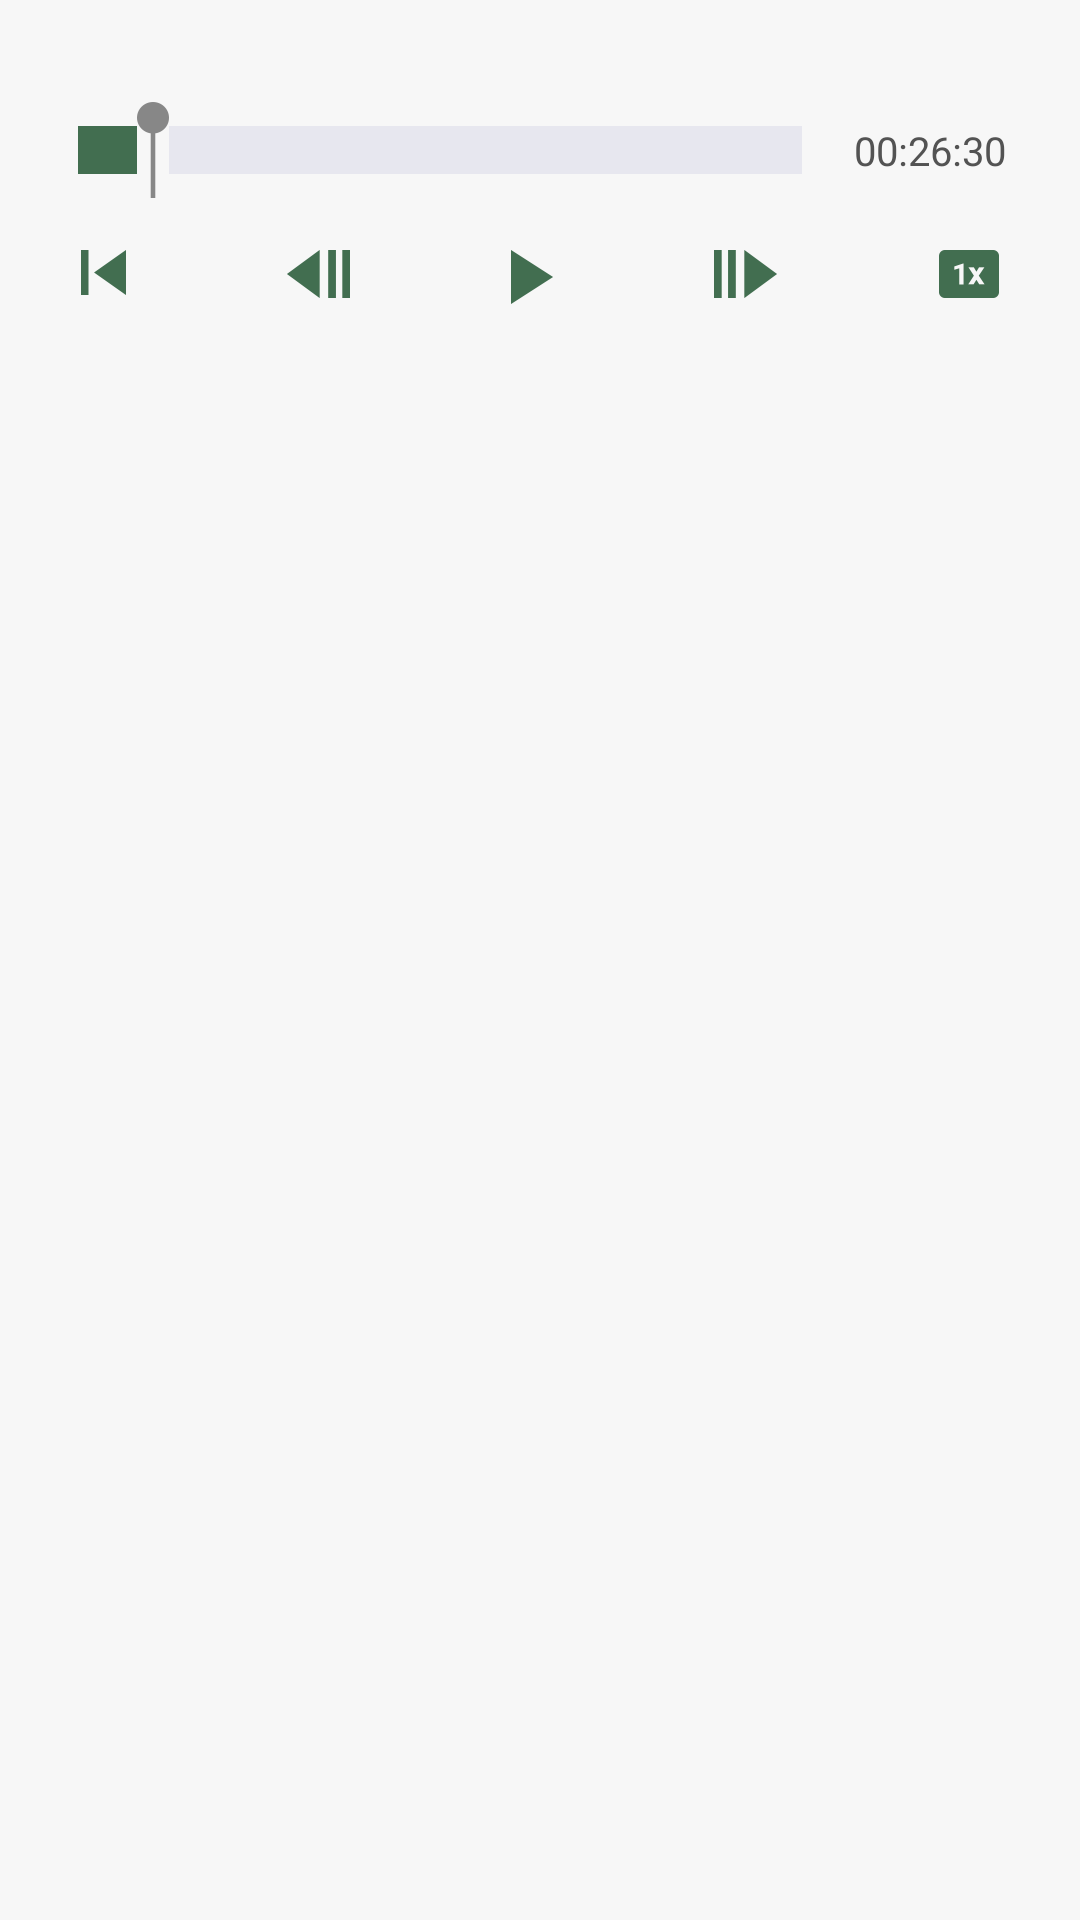

Where icons sit on this 1080px x 1920px app screen, as (x1, y1, x2, y2):
framebk gr: (287, 250, 350, 298)
framego gr: (714, 250, 777, 298)
play gr: (511, 250, 553, 304)
skip gr: (81, 250, 126, 295)
